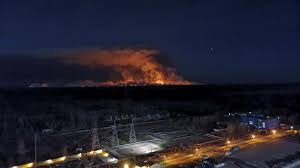fire: (114, 47, 189, 90)
smoke: (23, 45, 110, 87)
